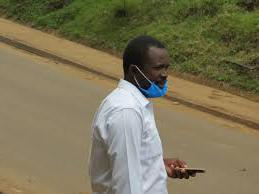mask_weared_incorrect: (148, 56, 169, 98)
